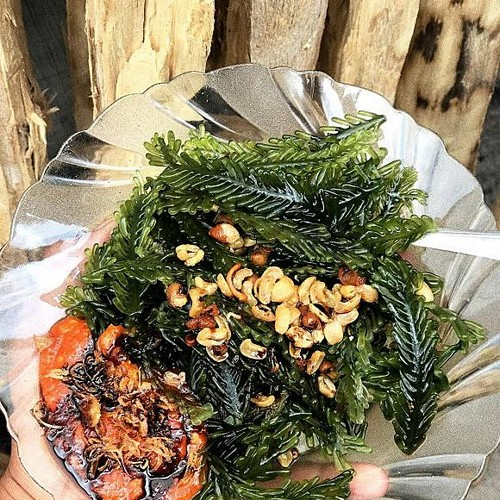bulung buni: (55, 116, 465, 493)
